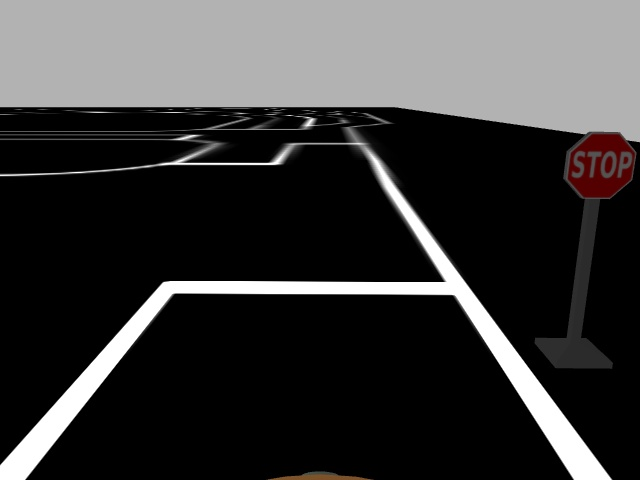stop: (560, 127, 634, 202)
